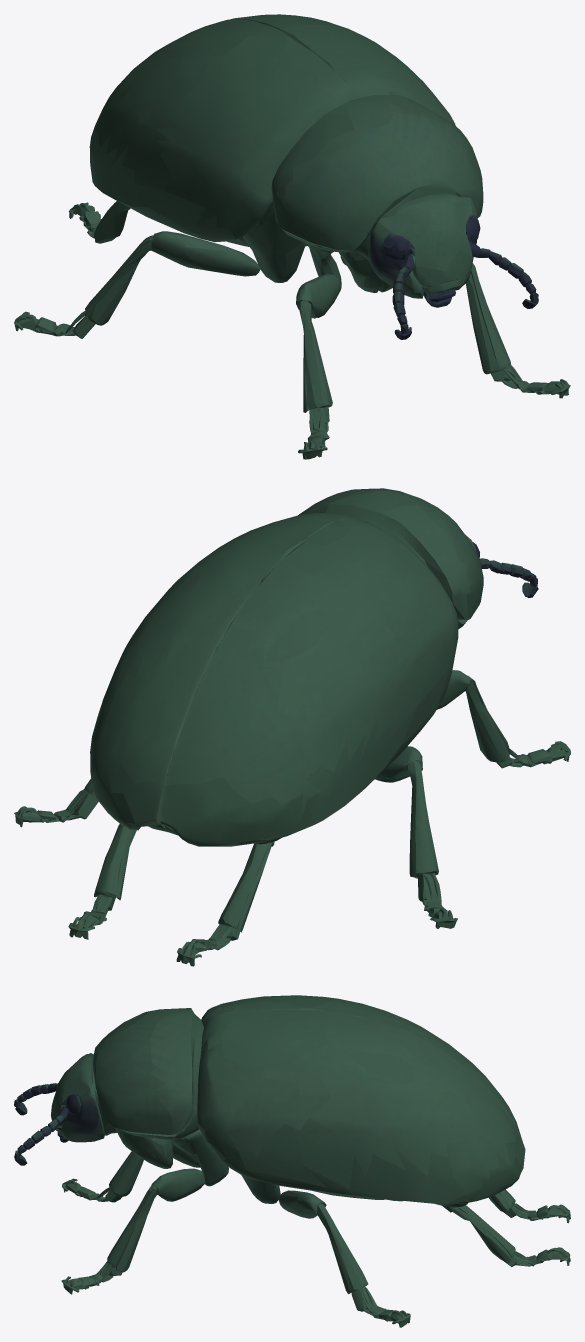
Rendered from skill-cypress.glb.
3 views of the same model, one above another, from view 1: azimuth 30°, elevation 25°; view 2: azimuth 150°, elevation 25°; view 3: azimuth 270°, elevation 25° (orthographic). The views are drawn at different scales.
Size of the model in its own units: 1.42 by 0.8779 by 1.9.
1 material, 1 textured.
